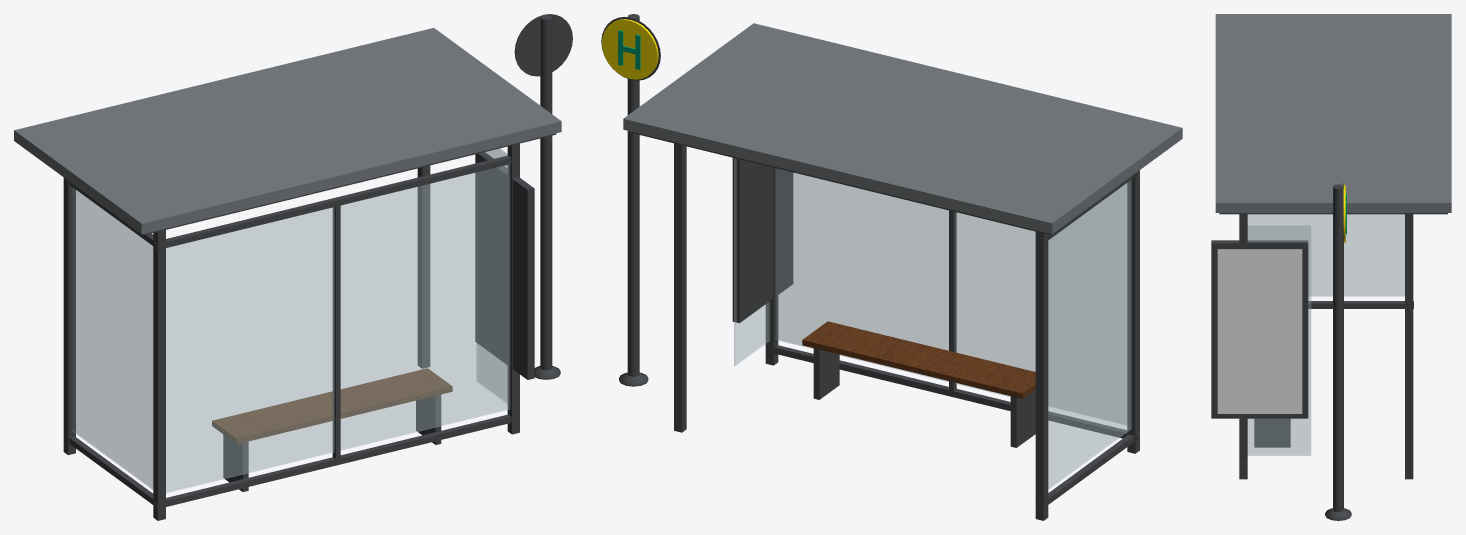
File: bus_stop.glb
3 renders of one model, left to right at view 1: azimuth 30°, elevation 25°; view 2: azimuth 150°, elevation 25°; view 3: azimuth 270°, elevation 25°, orthographic. The views are drawn at different scales.
Visible parts, largest first — view 1: bus_stop; view 2: bus_stop; view 3: bus_stop.
Boxes of the visible parts, left/top/right/bottom form: bus_stop: left=14, top=14, right=572, bottom=520; bus_stop: left=601, top=14, right=1182, bottom=520; bus_stop: left=1211, top=14, right=1451, bottom=520.
Bounding box in the file's own units: 4.4 × 3.01 × 1.98.
Materials: 8 (1 with a texture image).
